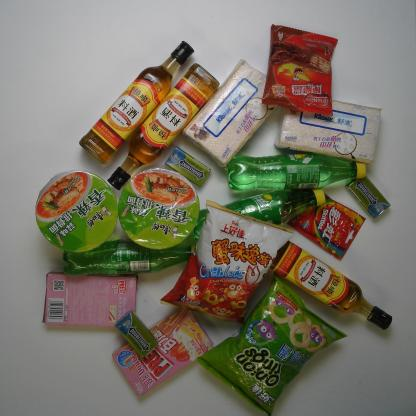Candy: (280, 184, 368, 262)
Dessert: (111, 305, 216, 399), (260, 23, 339, 117), (41, 270, 141, 331)
Drink: (187, 186, 327, 244), (226, 151, 367, 192), (61, 237, 199, 278)
Gum: (113, 309, 162, 360), (344, 173, 392, 221), (163, 145, 213, 189)
Instant Noodles: (34, 168, 119, 254), (118, 166, 201, 251)
Puffed Food: (193, 269, 349, 414), (159, 198, 295, 328)
Seasoner: (77, 40, 195, 168), (105, 63, 221, 192), (267, 238, 393, 331)
Tissue: (181, 57, 283, 169), (272, 93, 384, 166)
